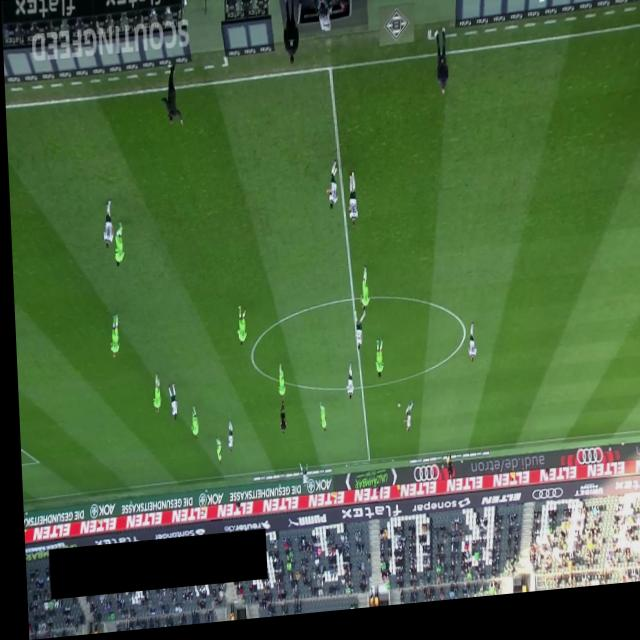player: (322, 165, 336, 216), (344, 177, 356, 234), (99, 201, 111, 251), (354, 271, 366, 320), (350, 312, 363, 357), (110, 222, 122, 270), (104, 314, 116, 360), (231, 309, 243, 351), (462, 331, 473, 371), (163, 385, 174, 424), (147, 375, 157, 416), (398, 407, 410, 440), (370, 343, 379, 386), (340, 368, 350, 406), (185, 408, 194, 444), (273, 368, 281, 406), (293, 466, 304, 493), (221, 423, 228, 456), (315, 407, 322, 439), (210, 440, 217, 468)
referee: (274, 404, 282, 440), (441, 462, 448, 485)
